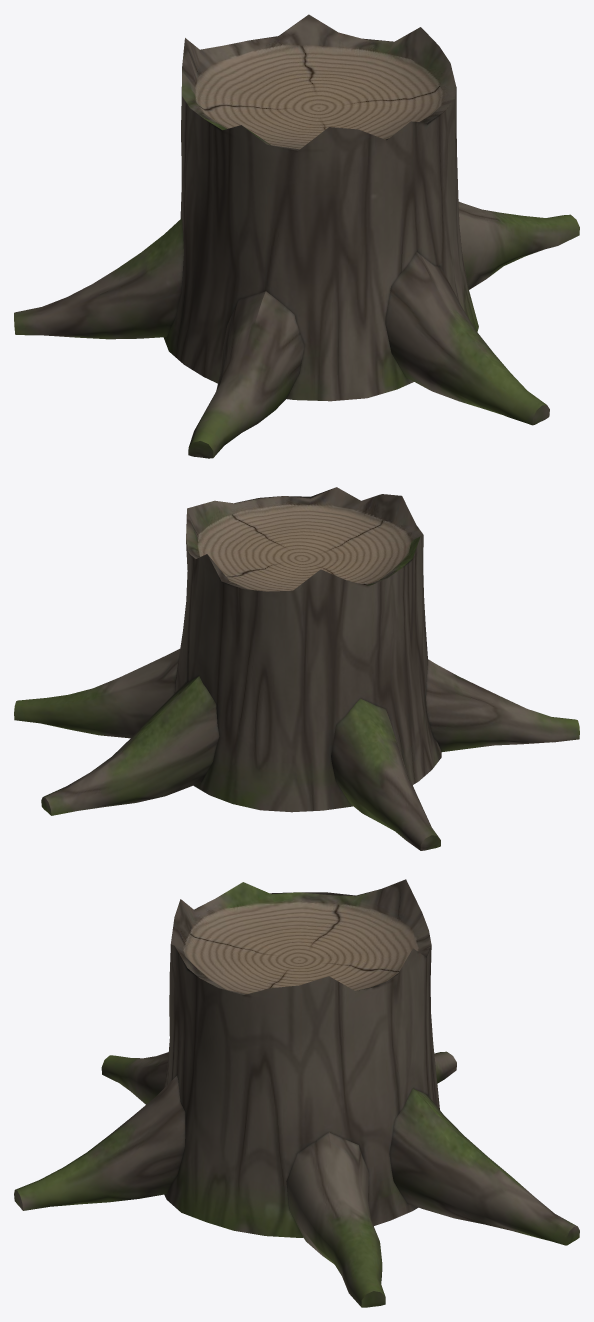
Rendered from fm_tree_stump.glb.
3 renders of one model, top to bottom at view 1: azimuth 30°, elevation 25°; view 2: azimuth 150°, elevation 25°; view 3: azimuth 270°, elevation 25°, orthographic. The views are drawn at different scales.
Parts seen in each view (by area): view 1: fm_tree_stump; view 2: fm_tree_stump; view 3: fm_tree_stump.
Boxes of the visible parts, x1,y1,x2,y2 form: fm_tree_stump: (14, 14, 579, 458); fm_tree_stump: (14, 487, 579, 850); fm_tree_stump: (14, 879, 579, 1307).
Bounding box in the file's own units: 1.33 × 0.6562 × 1.31.
Materials: 1 (1 with a texture image).
